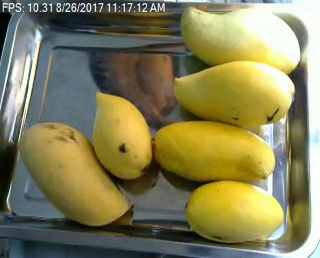Mango: (21, 121, 130, 226), (179, 6, 299, 74), (175, 62, 295, 127), (154, 119, 275, 183), (188, 181, 283, 241), (92, 90, 152, 178)
